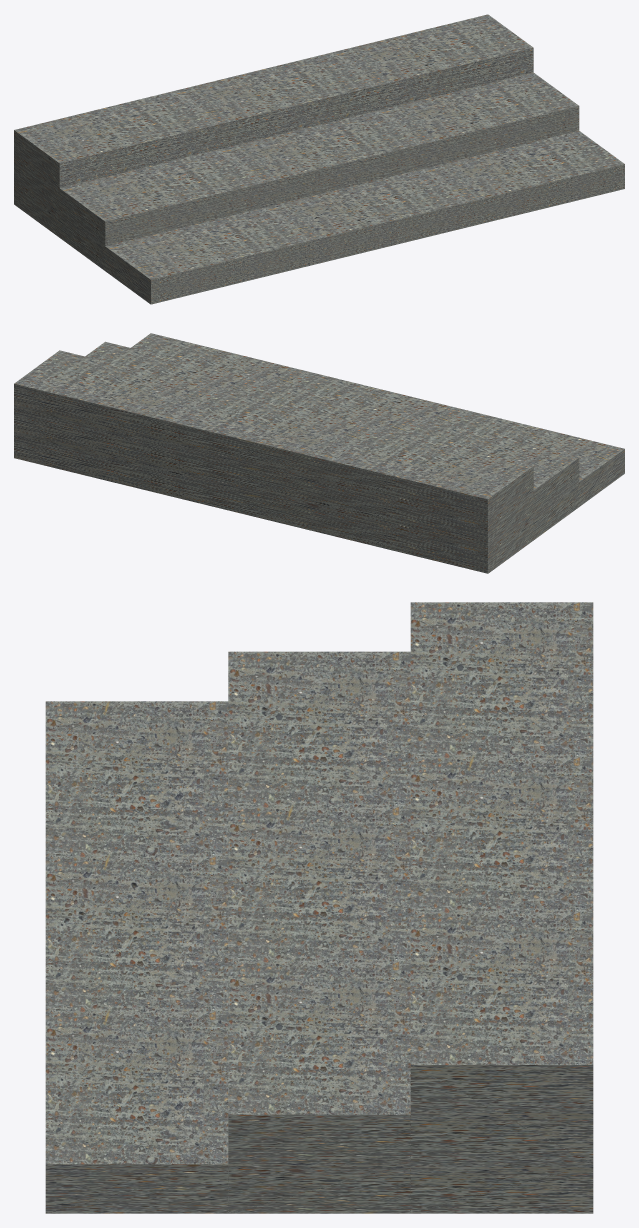
Rendered from stairs.obj.
3 renders of one model, top to bottom at view 1: azimuth 30°, elevation 25°; view 2: azimuth 150°, elevation 25°; view 3: azimuth 270°, elevation 25°, orthographic. The views are drawn at different scales.
Parts seen in each view (by area): view 1: step_Cube.070; view 2: step_Cube.070; view 3: step_Cube.070.
Part boxes in pixels (x1,y1,x2,y2): step_Cube.070: (14, 14, 624, 304); step_Cube.070: (14, 333, 624, 573); step_Cube.070: (45, 602, 593, 1213).
Size of the model in its own units: 10 by 1.5 by 5.
